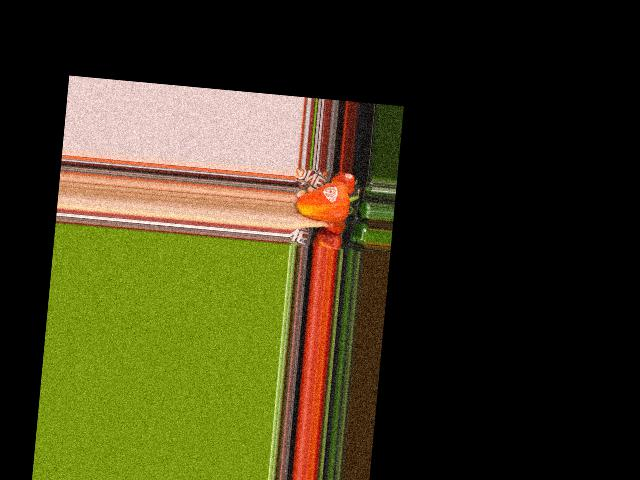bell_pepper: (295, 176, 361, 229)
